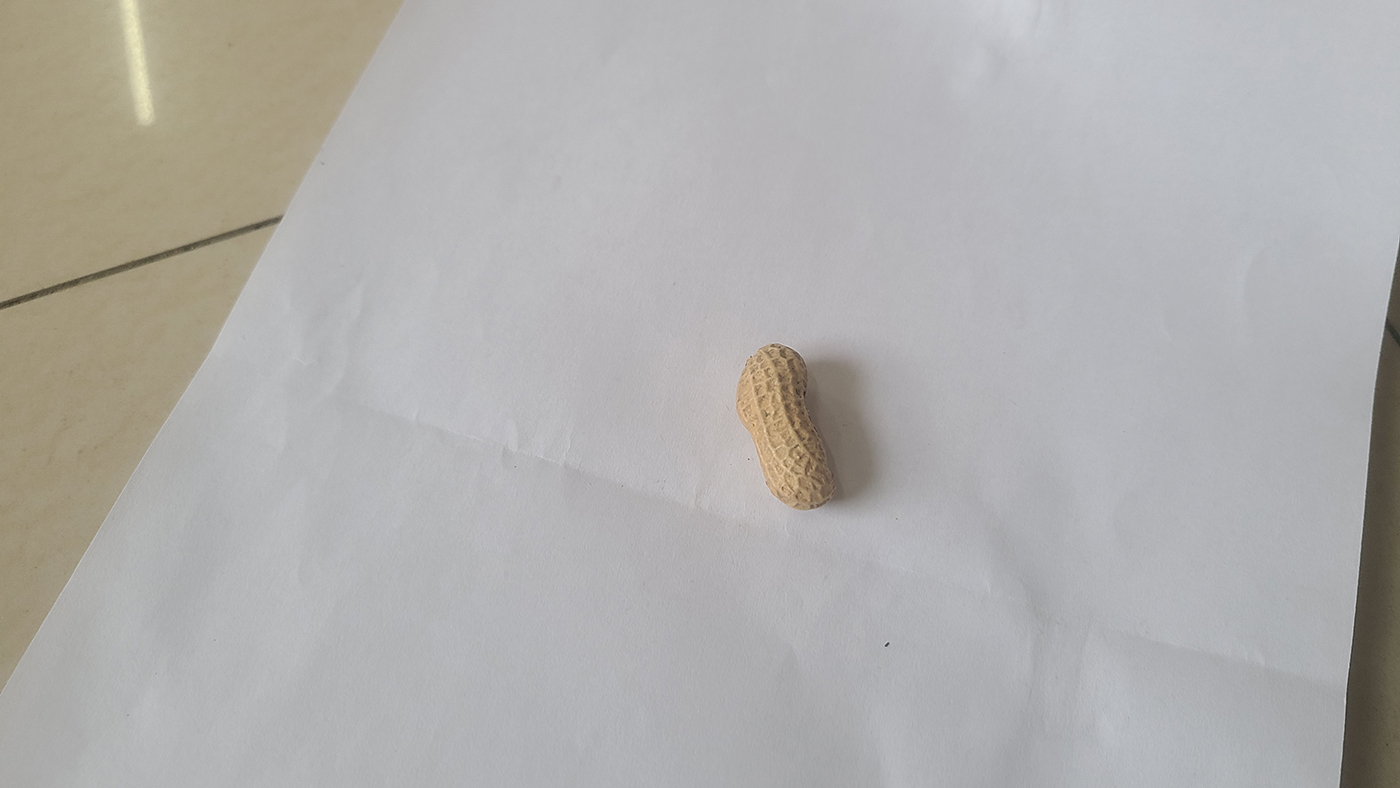h: (735, 342, 839, 509)
